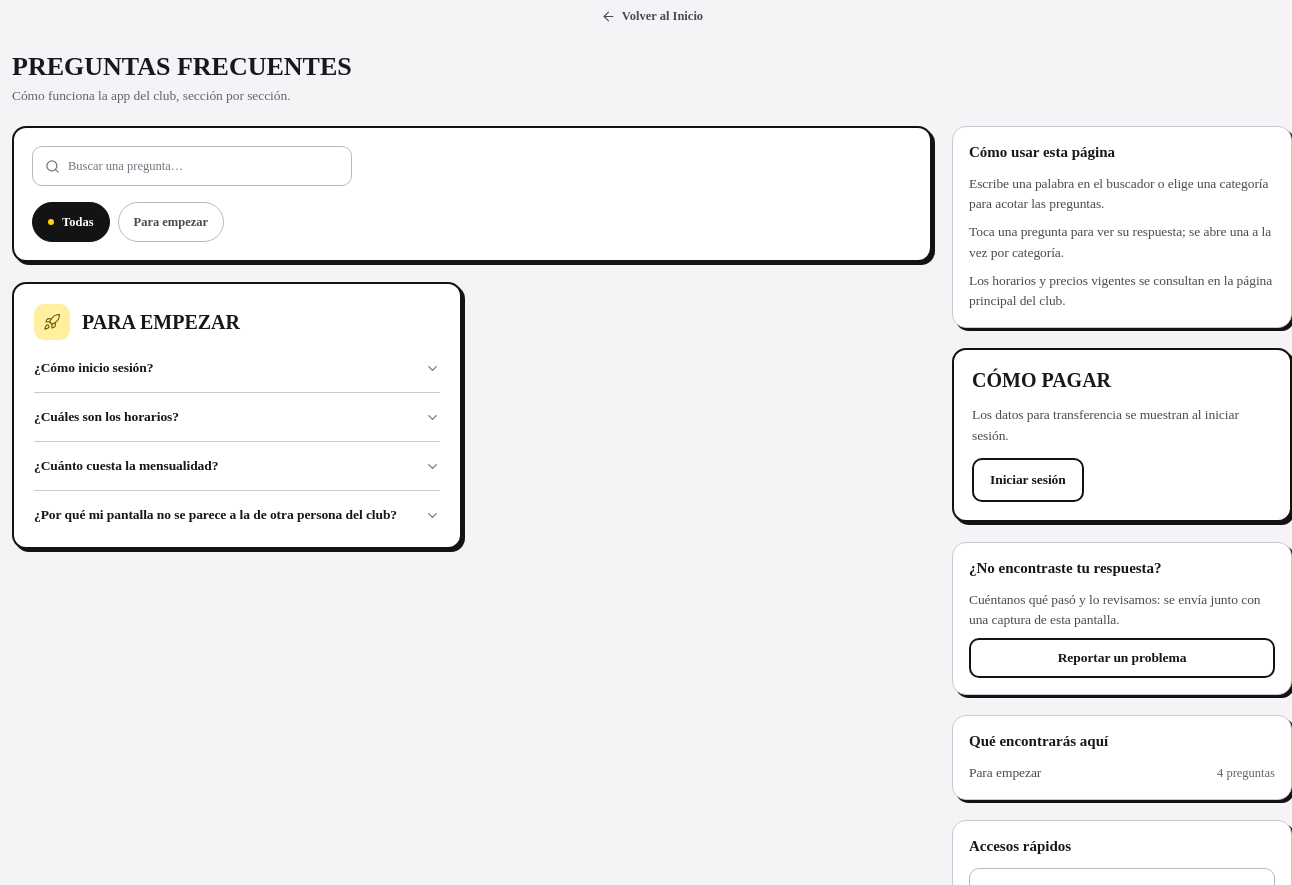
Test: AyudaPage — questions are accordions (#203) › reveals the answer once its question is opened
Step 1. Click the button "¿Cómo inicio sesión?" → {"x": 94, "y": 368}, box [34, 356, 440, 380]
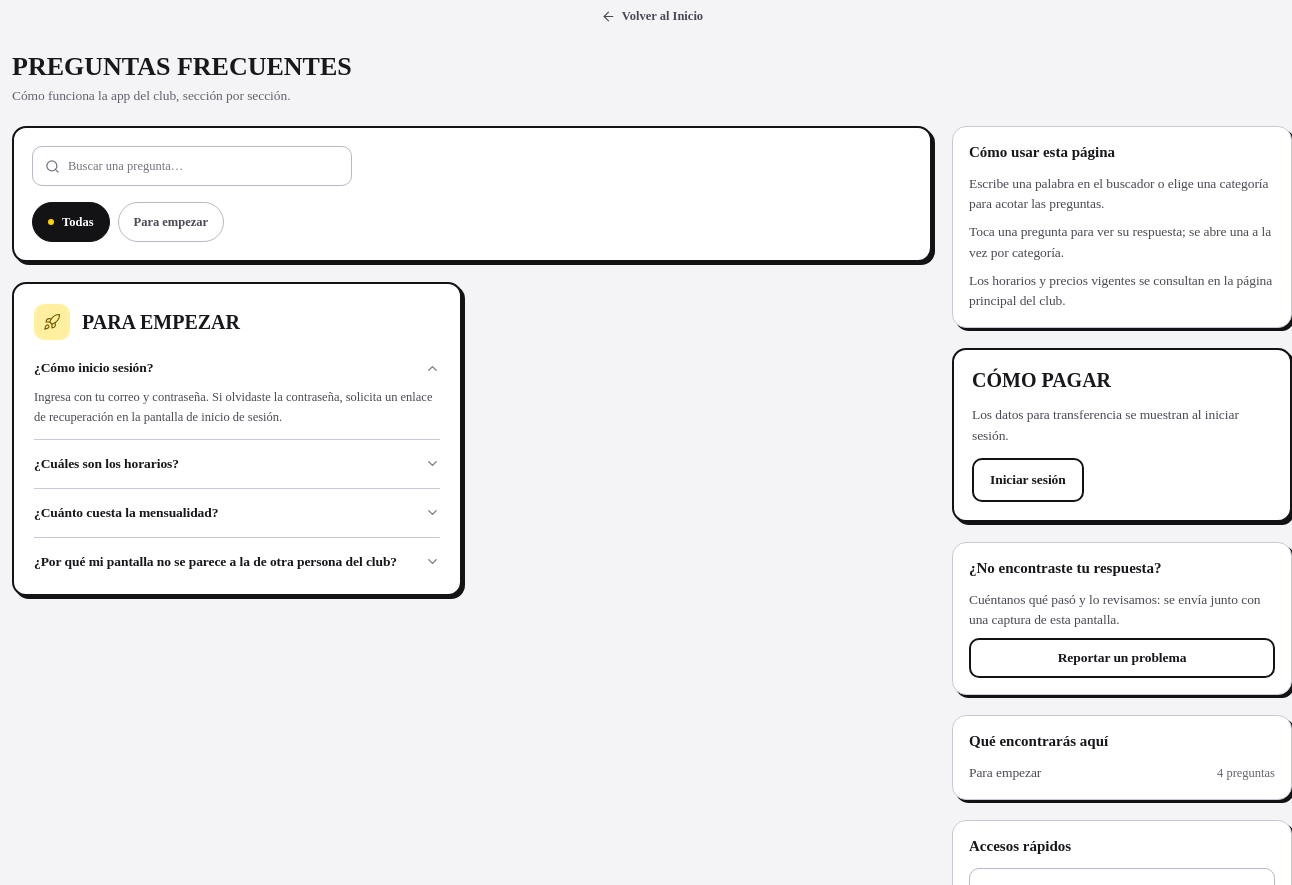
Expected: the button "¿Cómo inicio sesión?" is expanded, [34, 356, 440, 380]
Expected: the text "Ingresa con tu correo y contraseña. Si olvidaste la contraseña, solicita un enlace de recuperación en la pantalla de ini" is shown, [34, 390, 432, 424]
